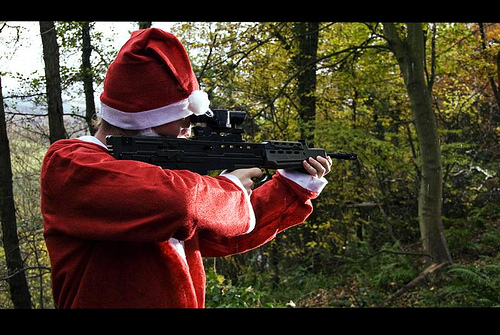rifle: (220, 109, 358, 163)
rifle in hand: (214, 107, 426, 248)
